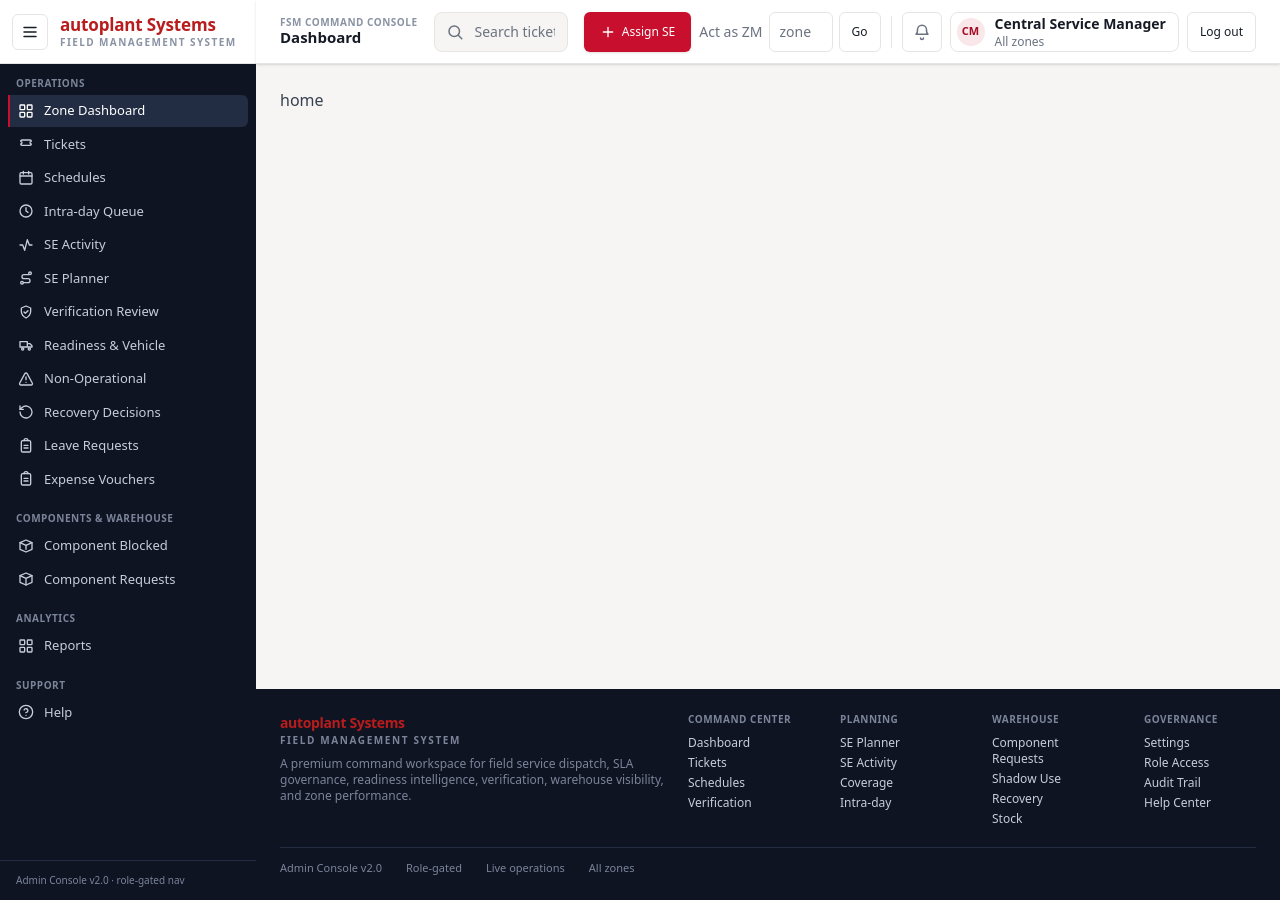
Acting-as-ZM banner (Issue 27) › a CSM enters acting mode and sees the persistent banner, then exits
Check: the text "acting as zonal manager for zone" is not shown
Type "3" into the field named "act as zm for zone".
click(800, 32); type("3")  # box 768,12 -> 832,52
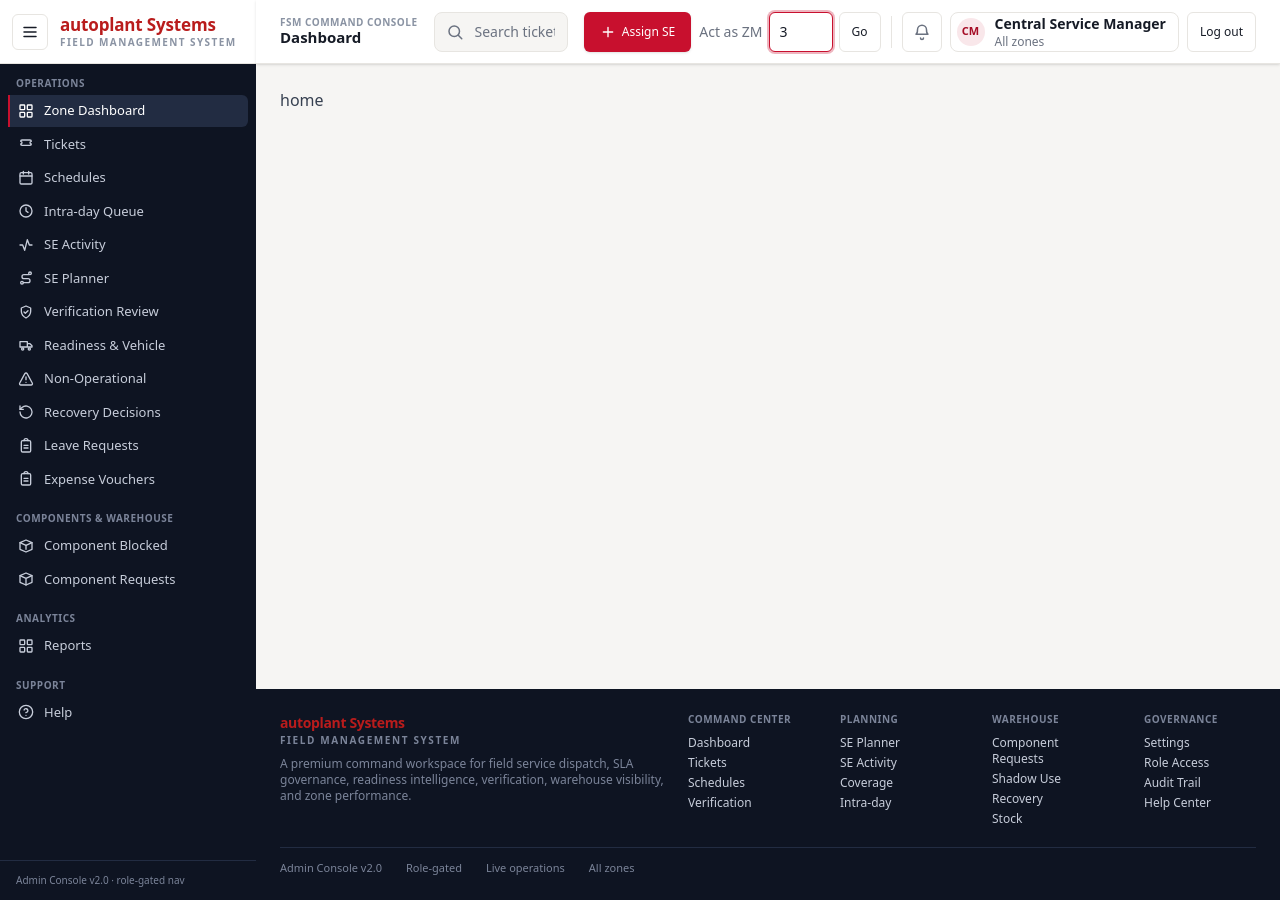
Click the button "Go".
click(860, 32)  # box 838,12 -> 880,52
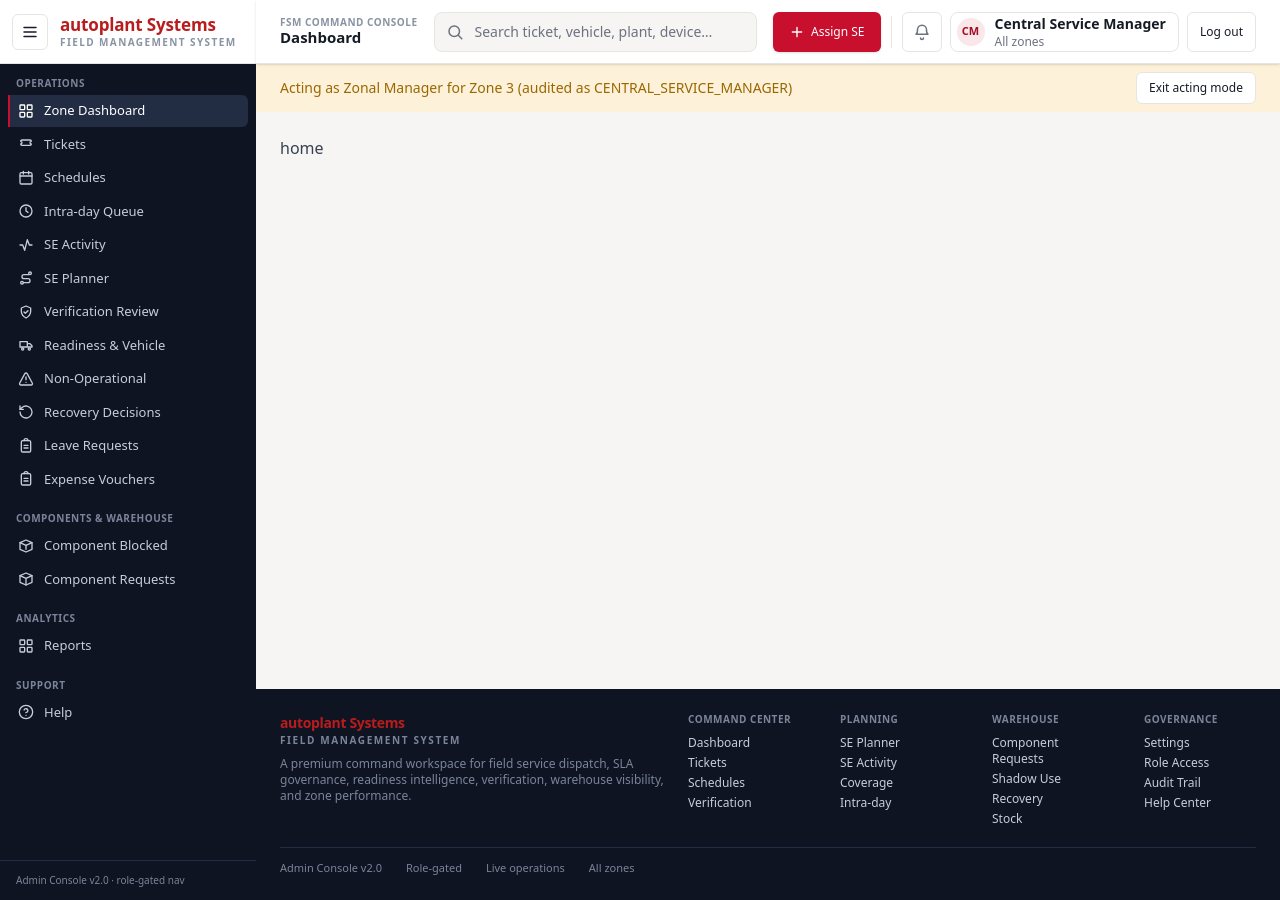
Check: the text "Acting as Zonal Manager for Zone 3" is shown, box 280,78 -> 792,98
Click the button "Exit acting mode".
click(1196, 88)  # box 1136,72 -> 1256,104
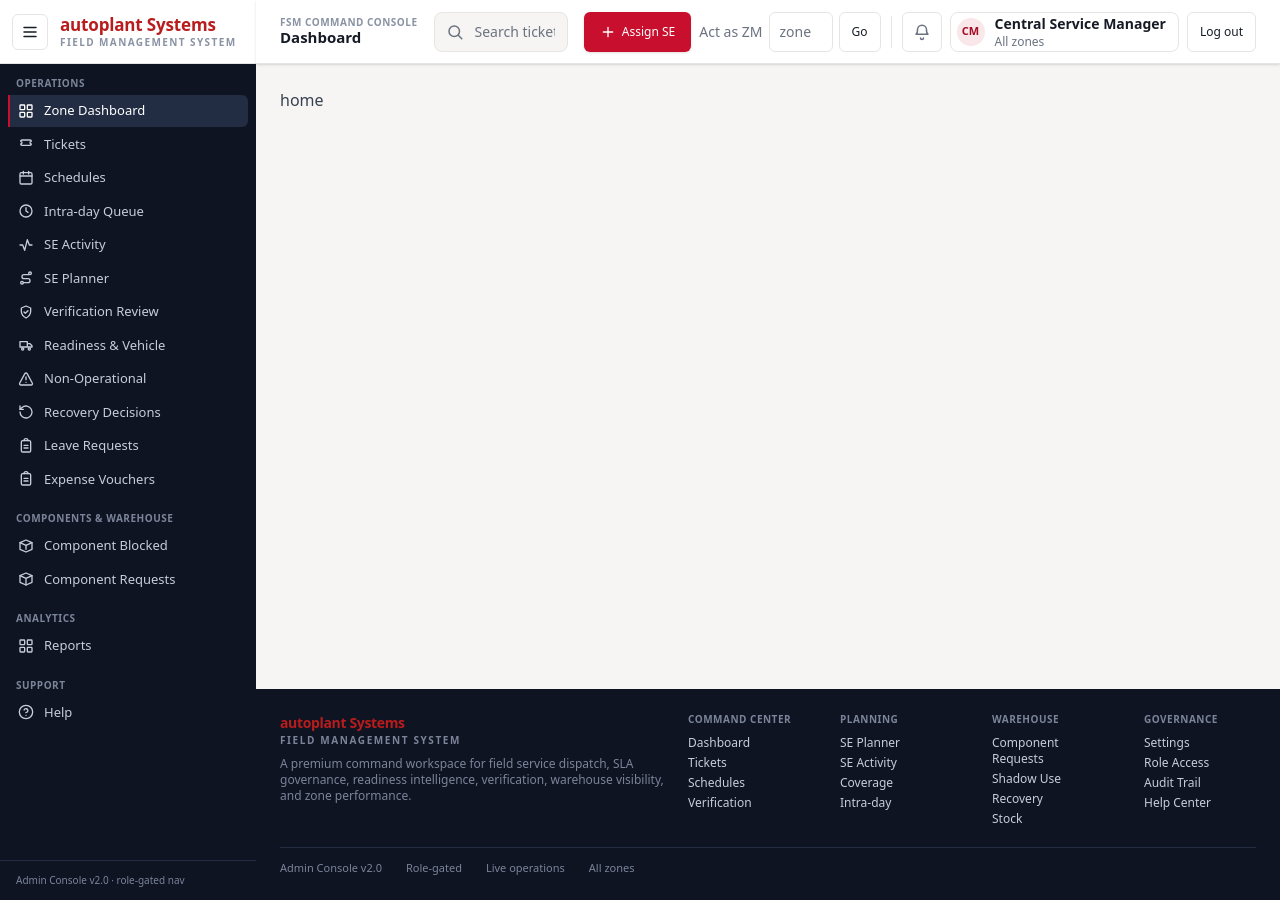
Check: the text "Acting as Zonal Manager for Zone" is gone
